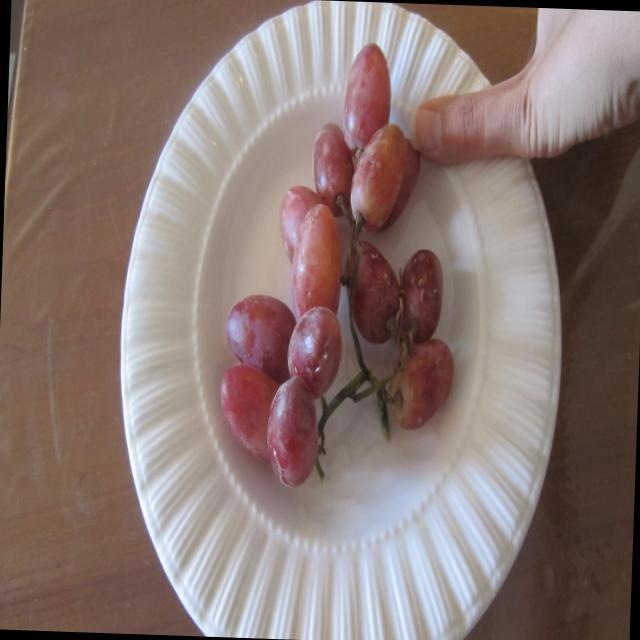Finger: (410, 73, 490, 174)
Grapes: (210, 30, 414, 502)
